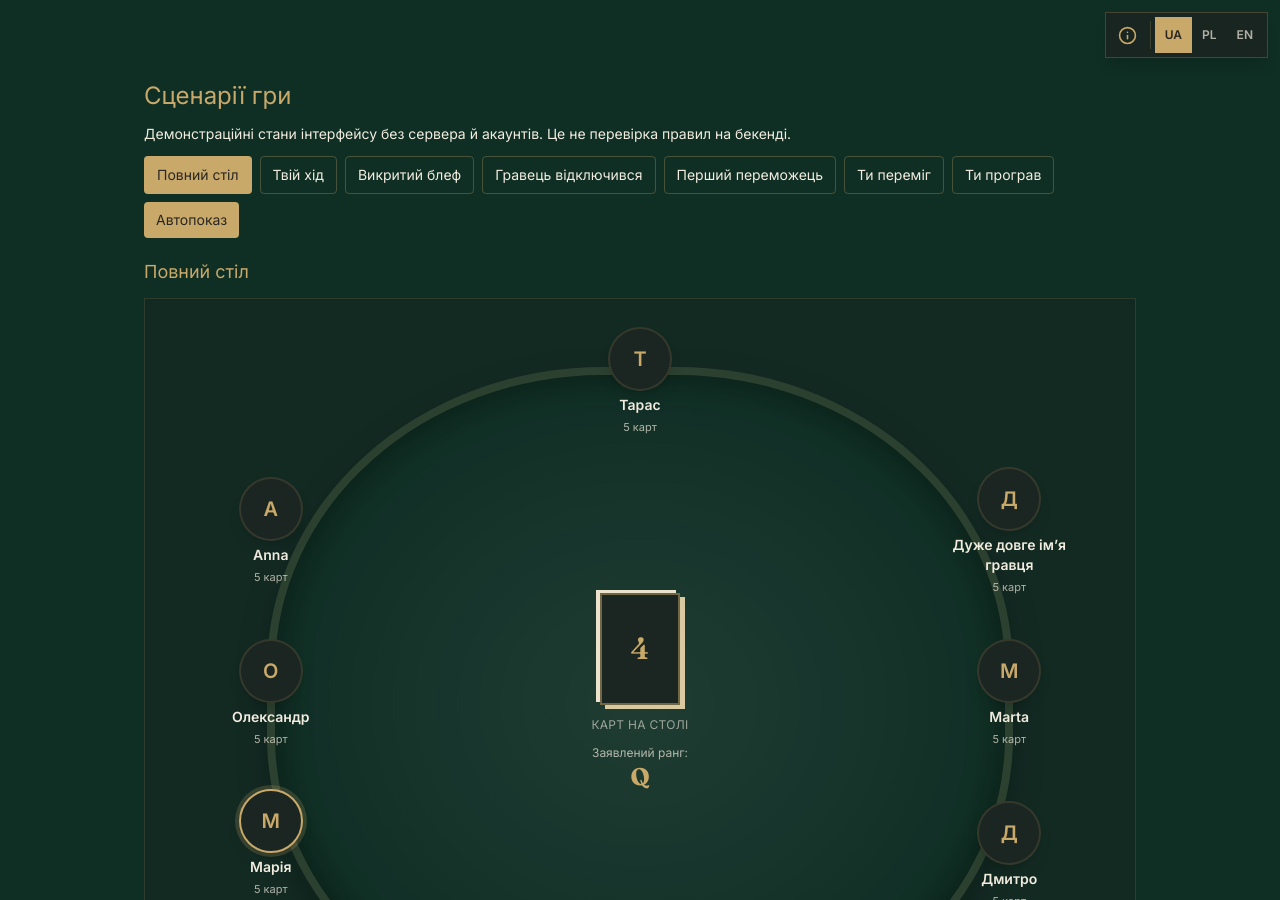
Сценарії ігрового столу › shows the first winner while the game continues
Expected: the heading "Сценарії гри" is shown, [144,81,291,110]
Click the button "Перший переможець" at (751, 175), box [664,156,837,194]
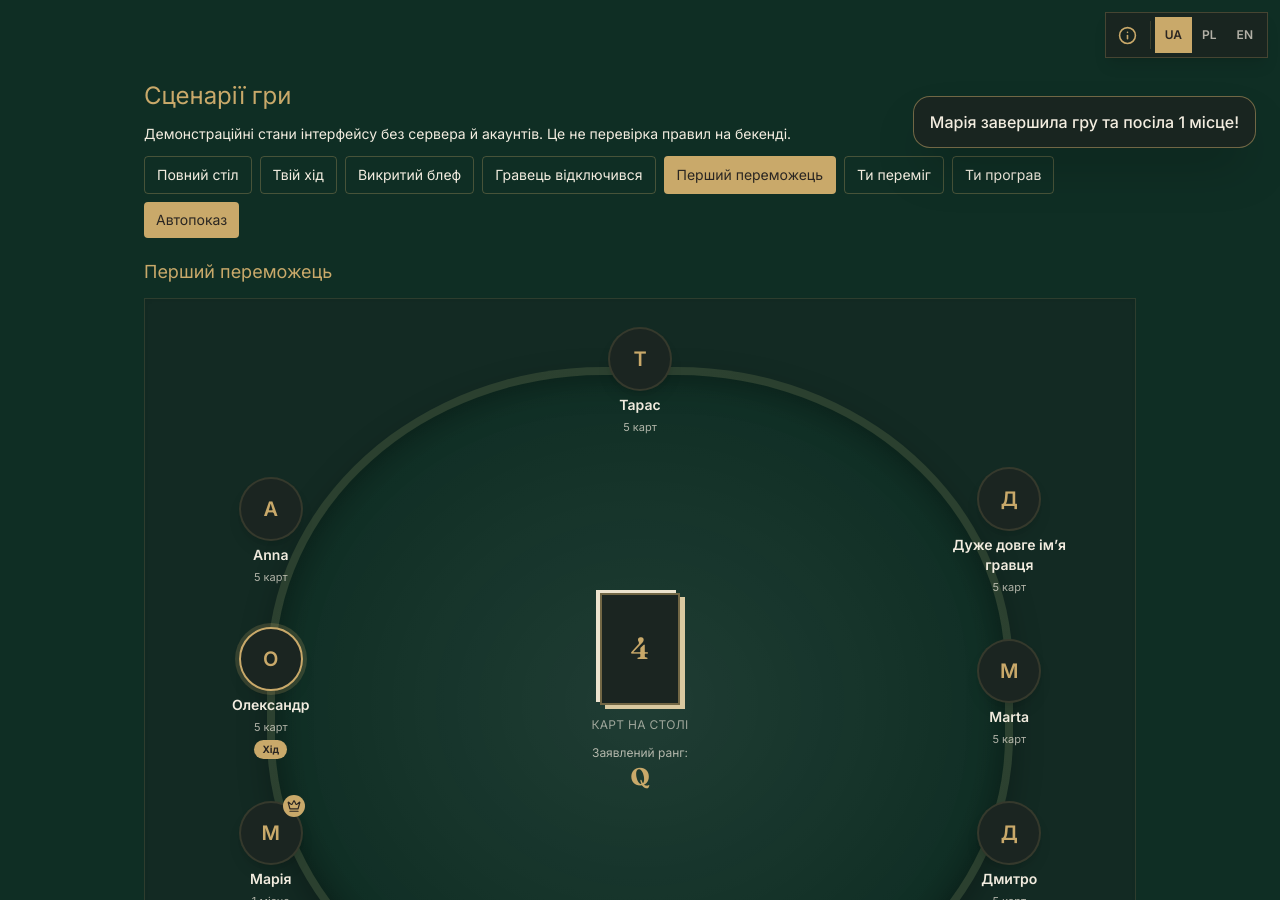
Expected: the text named "Ігровий стіл" reads "Хід", [262,743,279,755]
Result: the text named "Ігровий стіл" reads "1 місце" at [252,894,290,899]
